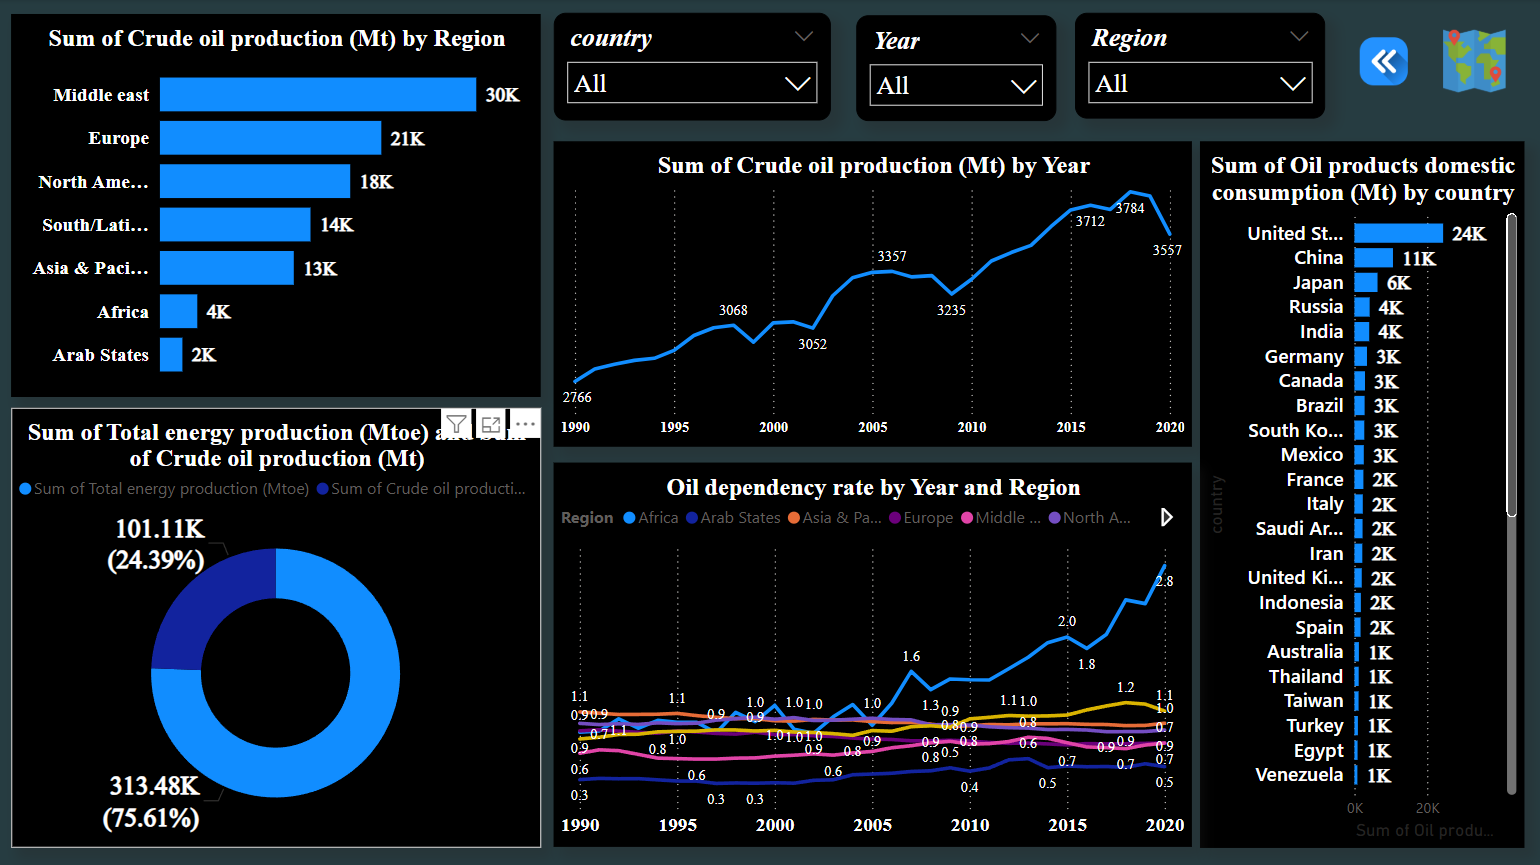

This screenshot's page, from the dashboard's own definition file:
{"tool":"powerbi","page":{"name":"Crude Oil","canvas":[1280,720],"ordinal":1},"visuals":[{"type":"barChart","fields":{"Category":["Energy data 1990-2020.Region"],"Y":["Sum(Energy data 1990-2020.Crude oil production (Mt))"]},"box":[9.8,12,440.4,318.6],"z":0},{"type":"donutChart","fields":{"Y":["Sum(Energy data 1990-2020.Total energy production (Mtoe))","Sum(Energy data 1990-2020.Crude oil production (Mt))"]},"box":[9.8,340.3,440.4,365.3],"z":1000},{"type":"lineChart","fields":{"Category":["Energy data 1990-2020.Year"],"Y":["Sum(Energy data 1990-2020.Crude oil production (Mt))"]},"box":[459.9,118.5,530.6,253.3],"z":2000},{"type":"barChart","fields":{"Category":["Energy data 1990-2020.country"],"Y":["Sum(Energy data 1990-2020.Oil products domestic consumption (Mt))"]},"box":[998.2,118.5,269.7,587.2],"z":3000},{"type":"slicer","fields":{"Values":["Energy data 1990-2020.Year"]},"box":[711.8,13,166.4,88.2],"z":4000},{"type":"slicer","fields":{"Values":["Energy data 1990-2020.country"]},"box":[460,11.6,230,89.7],"z":5000},{"type":"slicer","fields":{"Values":["Energy data 1990-2020.Region"]},"box":[894,11.6,208.3,88.2],"z":6000},{"type":"lineChart","fields":{"Category":["Energy data 1990-2020.Year"],"Series":["Energy data 1990-2020.Region"],"Y":["measure.Oil dependency rate"]},"box":[460.1,386,530.4,319.4],"z":7000},{"type":"image","title":"Map","box":[1190.6,20.7,69.6,62],"z":9000},{"type":"image","title":"map return","box":[1118.9,27.2,62,50],"z":10000}]}

Visuals, with their boxes in screenshot pixels (x1, y1, x2, y2), scaled from the page's 1280x720 canvas onto the 1540x865 screenshot:
barChart - Energy data 1990-2020.Region x Sum(Energy data 1990-2020.Crude oil production (Mt)): (12, 14, 542, 397)
donutChart - Sum(Energy data 1990-2020.Total energy production (Mtoe)) x Sum(Energy data 1990-2020.Crude oil production (Mt)): (12, 409, 542, 848)
lineChart - Energy data 1990-2020.Year x Sum(Energy data 1990-2020.Crude oil production (Mt)): (553, 142, 1192, 447)
barChart - Energy data 1990-2020.country x Sum(Energy data 1990-2020.Oil products domestic consumption (Mt)): (1201, 142, 1525, 848)
slicer - Energy data 1990-2020.Year: (856, 16, 1057, 122)
slicer - Energy data 1990-2020.country: (553, 14, 830, 122)
slicer - Energy data 1990-2020.Region: (1076, 14, 1326, 120)
lineChart - Energy data 1990-2020.Year x Energy data 1990-2020.Region: (554, 464, 1192, 847)
"Map" image: (1432, 25, 1516, 99)
"map return" image: (1346, 33, 1421, 93)
